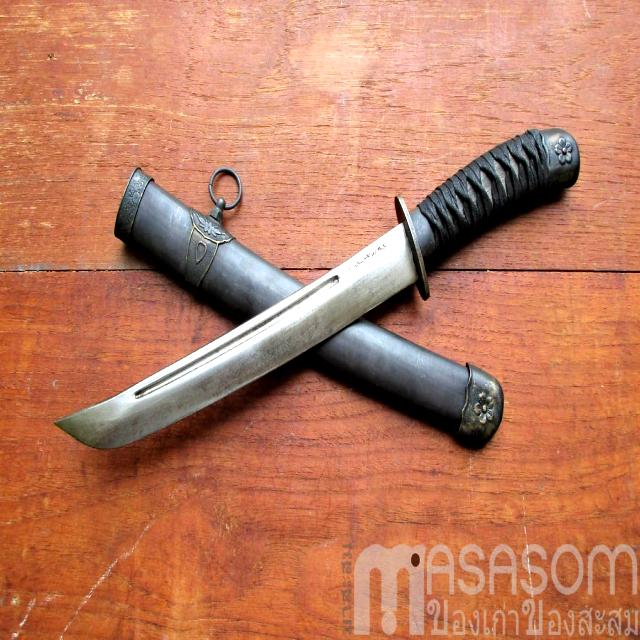short sword: (59, 81, 600, 490)
